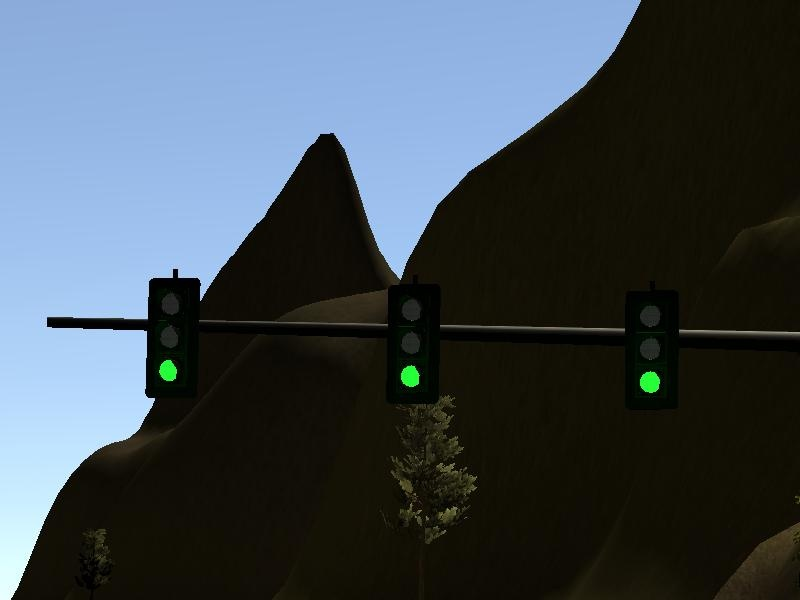green: (141, 268, 203, 407), (619, 282, 684, 409), (380, 279, 438, 408)
